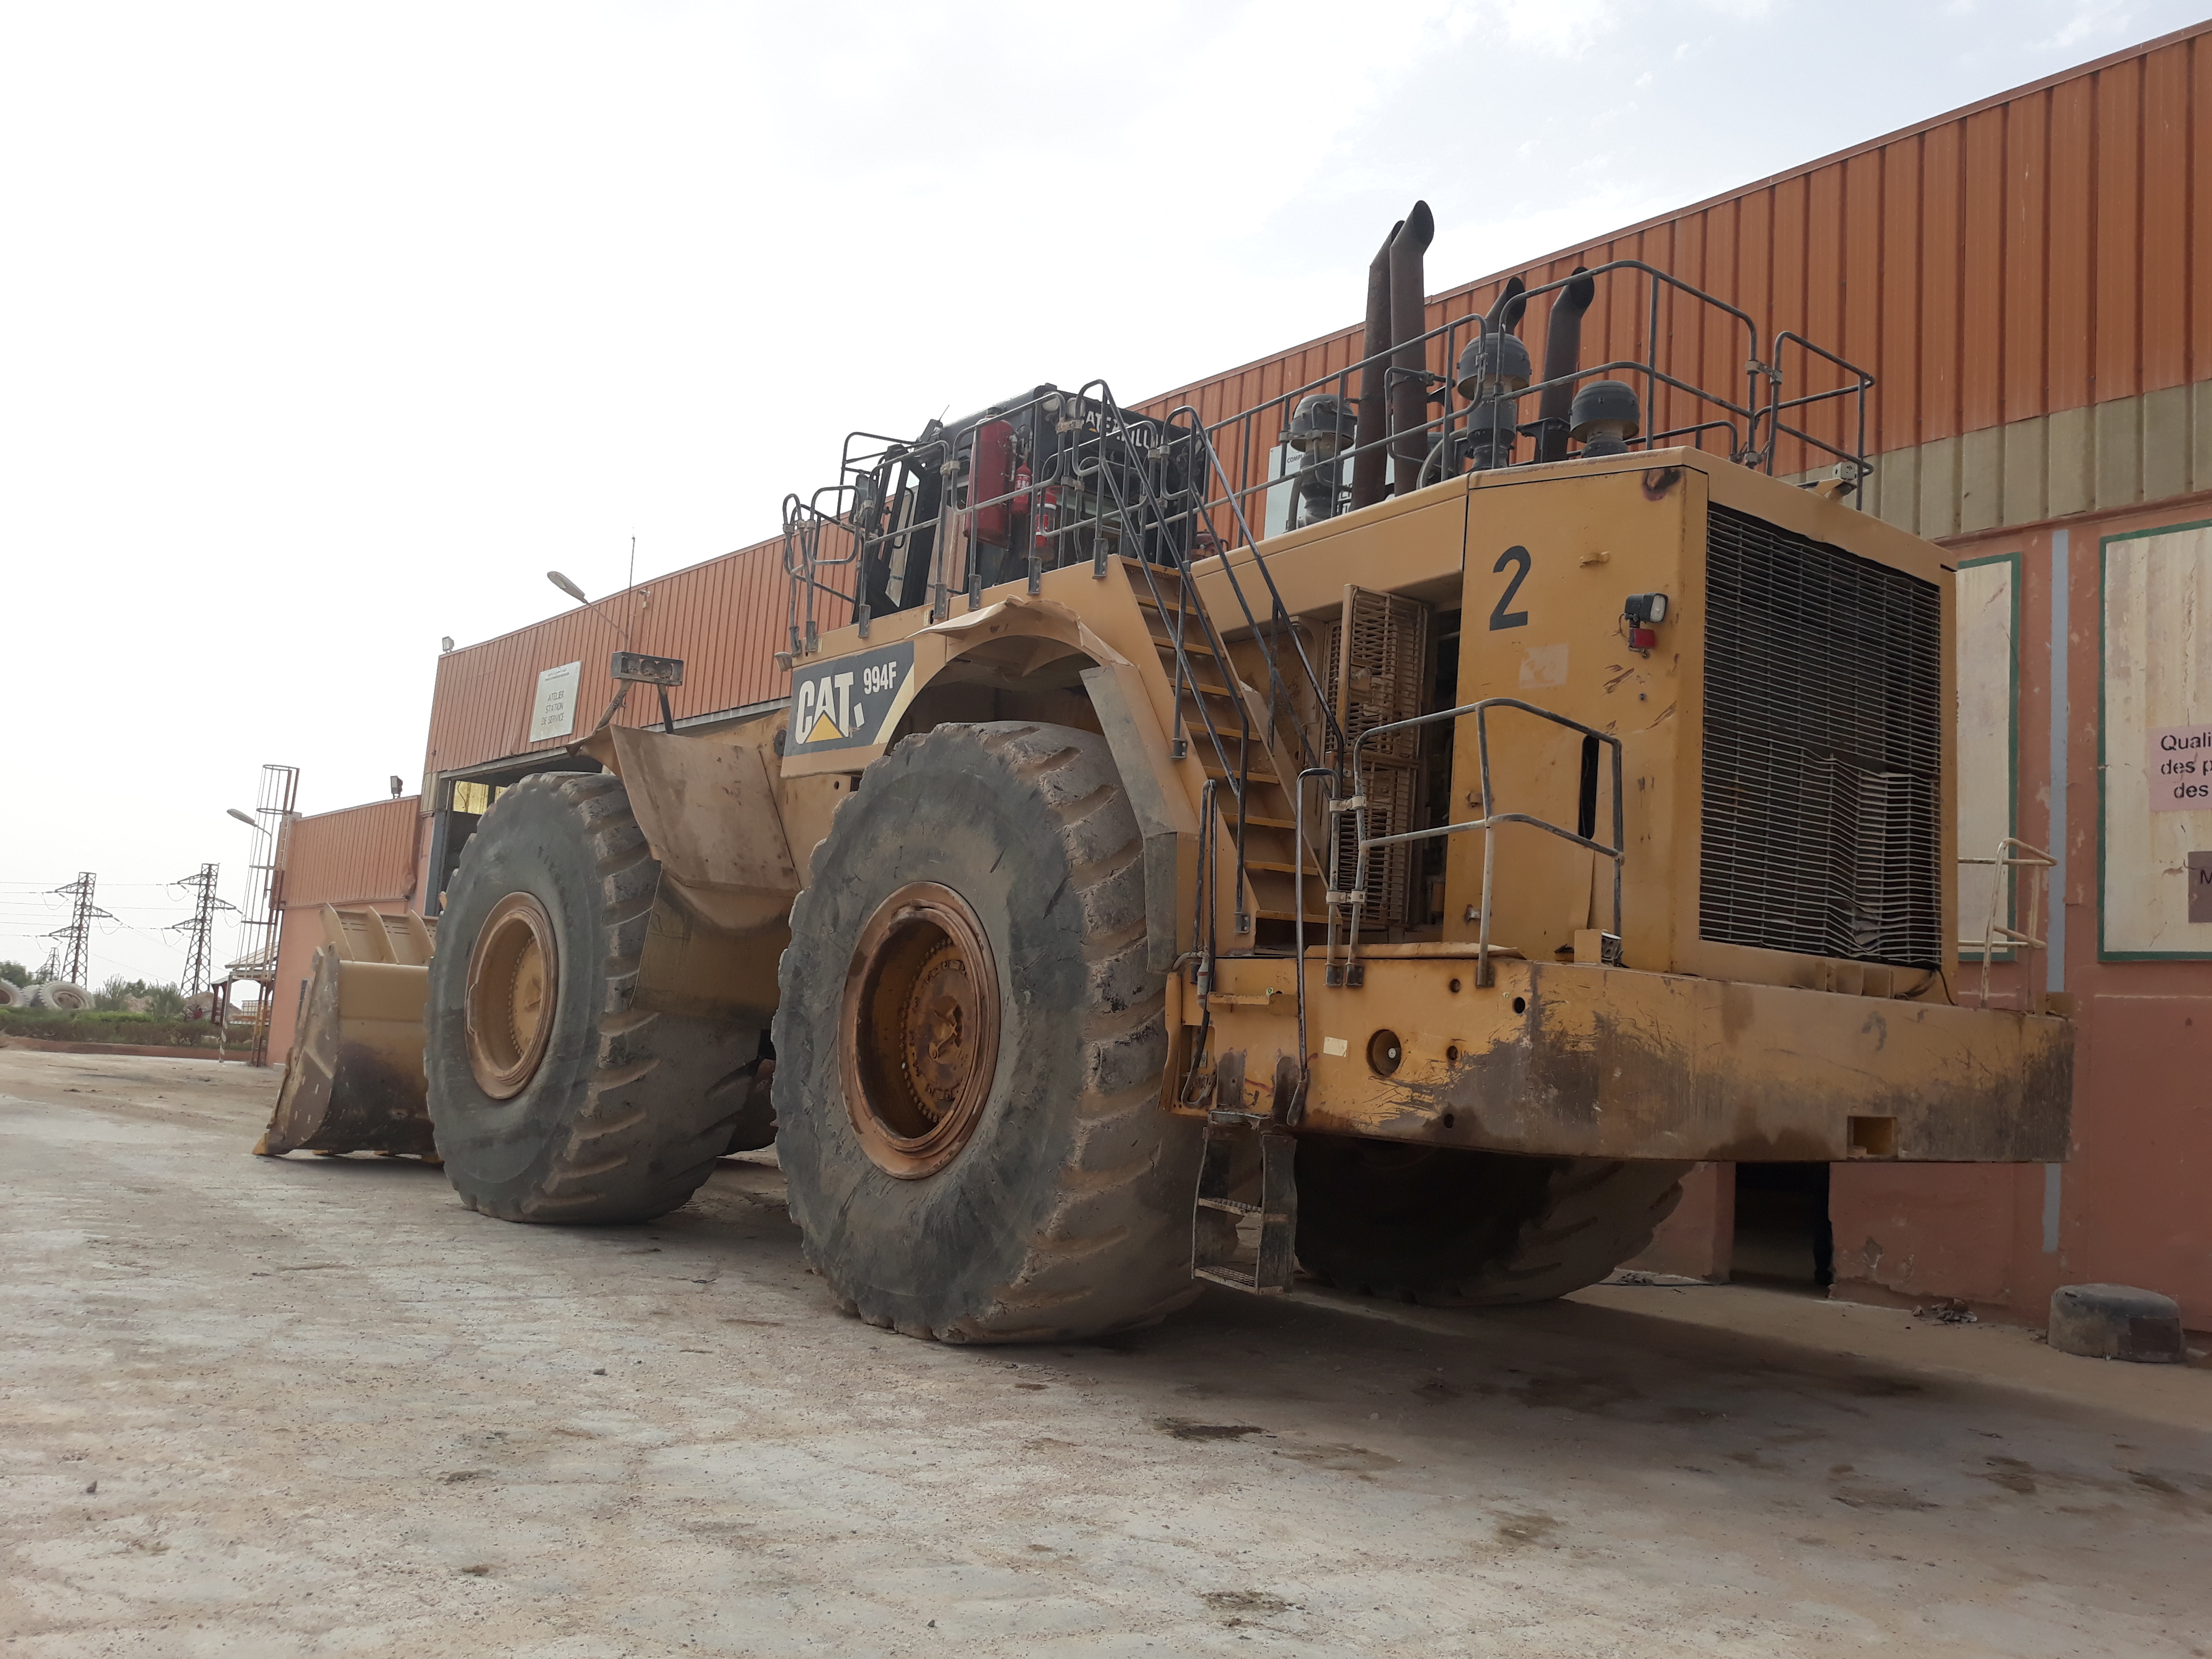chargeuse: (185, 211, 2080, 1415)
